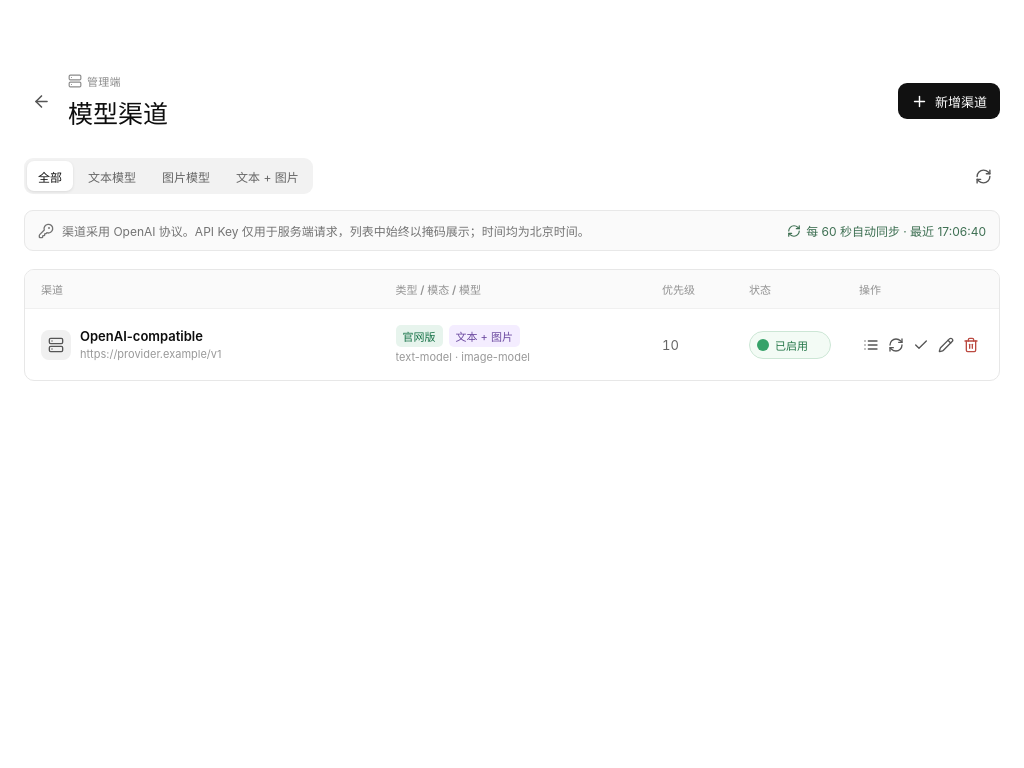
Test: AdminModelChannelsPage model polling › manages enabled models from the remote model list
Step 1. Click the button named "管理模型" → (871, 344), box [859,330,883,360]
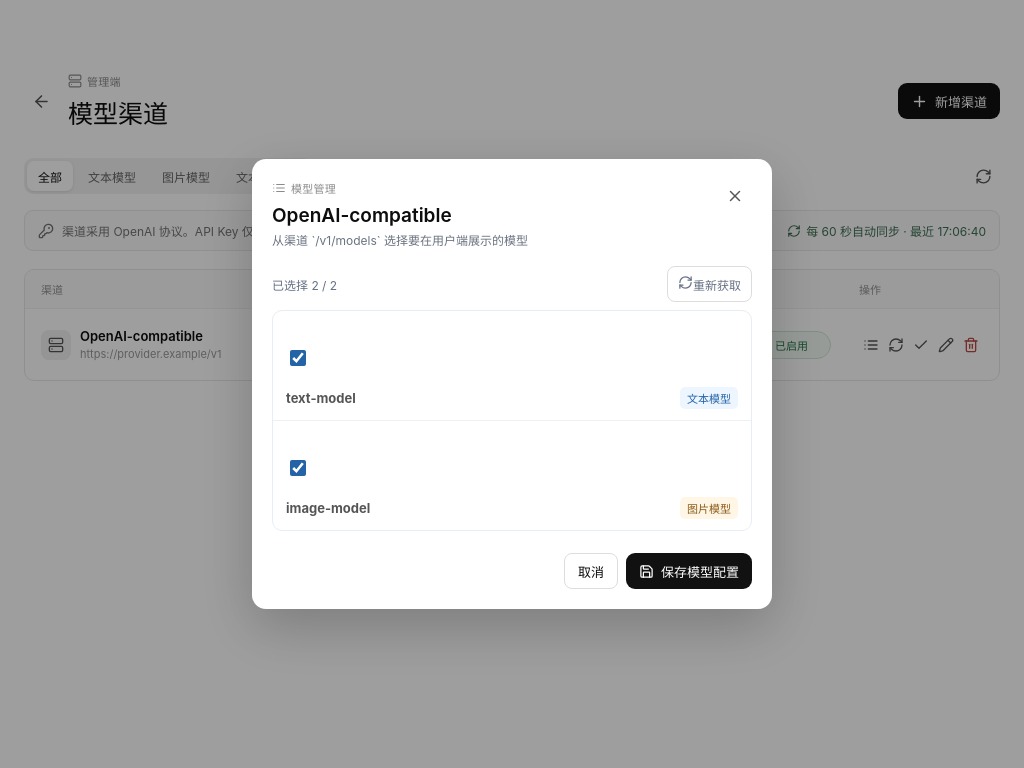
Expected: the dialog is shown, [252,159,772,609]
Expected: the number of checkboxes is 2
Step 2. Click the checkbox labelled "text-model 文本模型" → (298, 358), box [290,338,306,378]
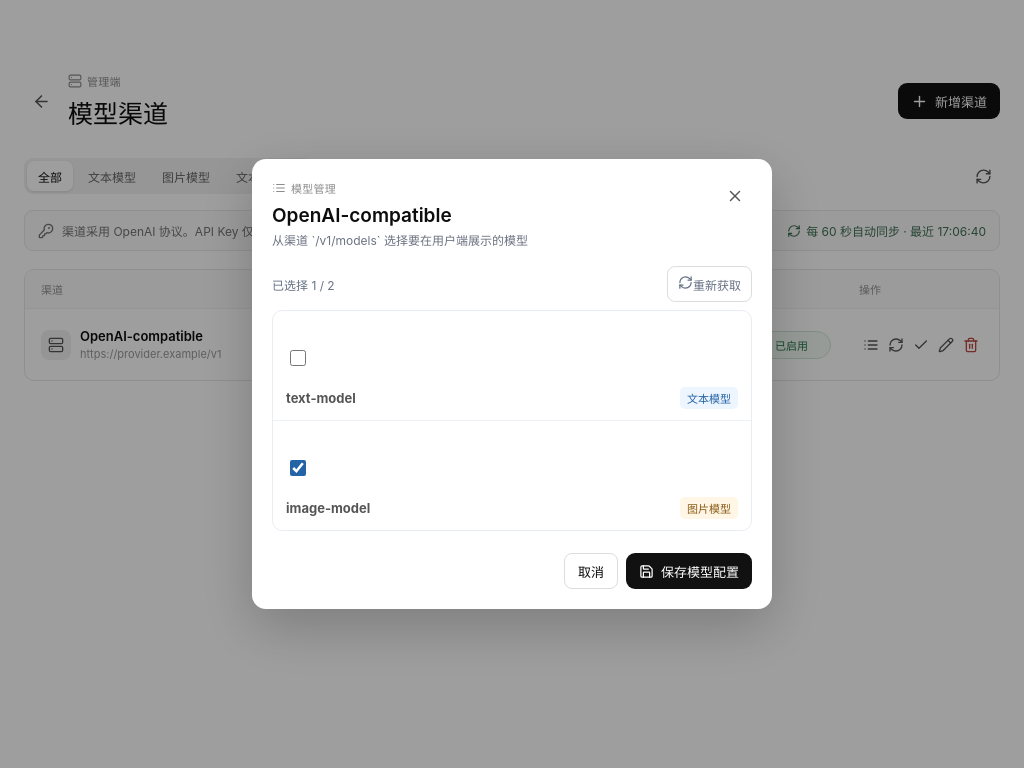
Step 3. Click the button "保存模型配置" → (689, 571), box [626,553,752,589]
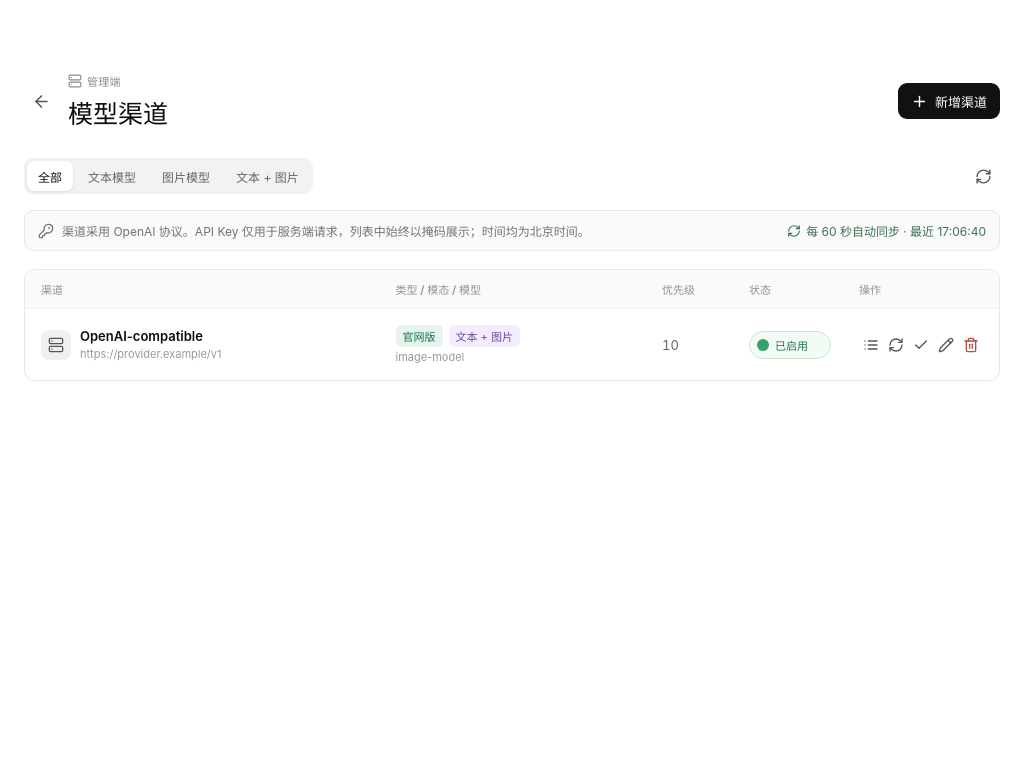
Expected: the dialog is gone
